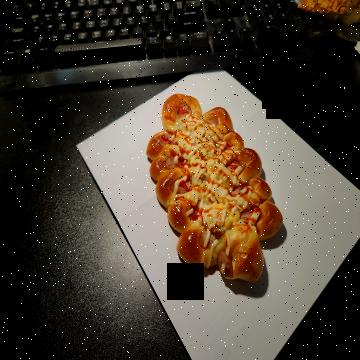pizza_bread: (146, 96, 284, 286)
